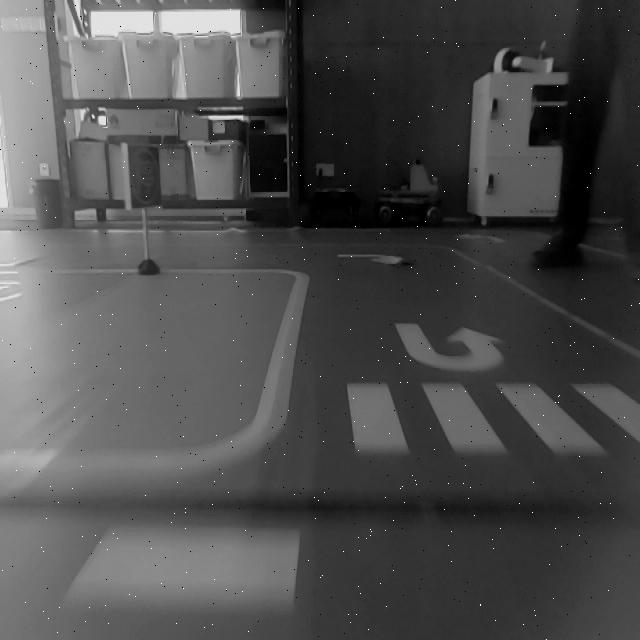left_lane: (269, 277, 309, 428)
right_lane: (450, 246, 640, 362)
